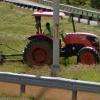Tractor: (26, 8, 100, 76)
